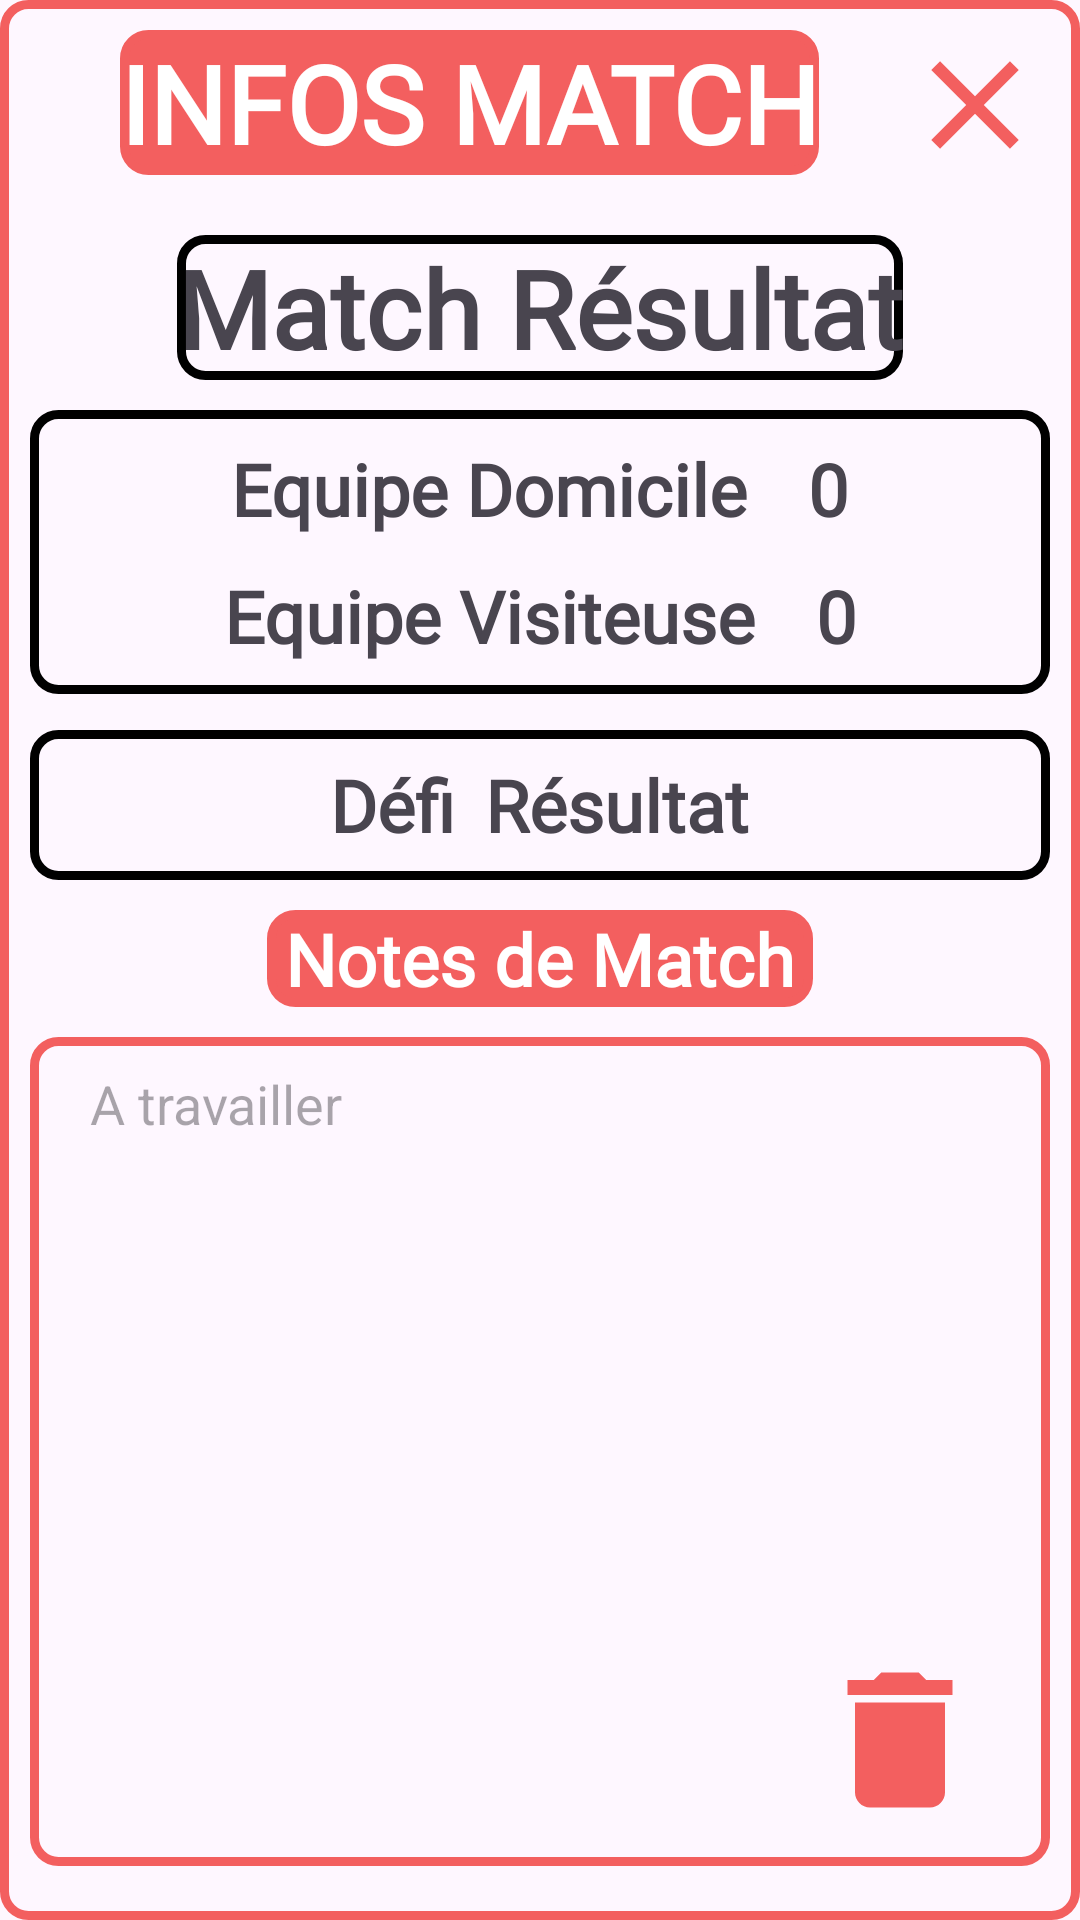

Locate icon controls on the screen. Image size 1080*1920, boxes as (x1=x1, y1=y1, x2=x2, y2=y2).
close: (x1=931, y1=61, x2=1019, y2=149)
delete: (x1=847, y1=1672, x2=953, y2=1808)
